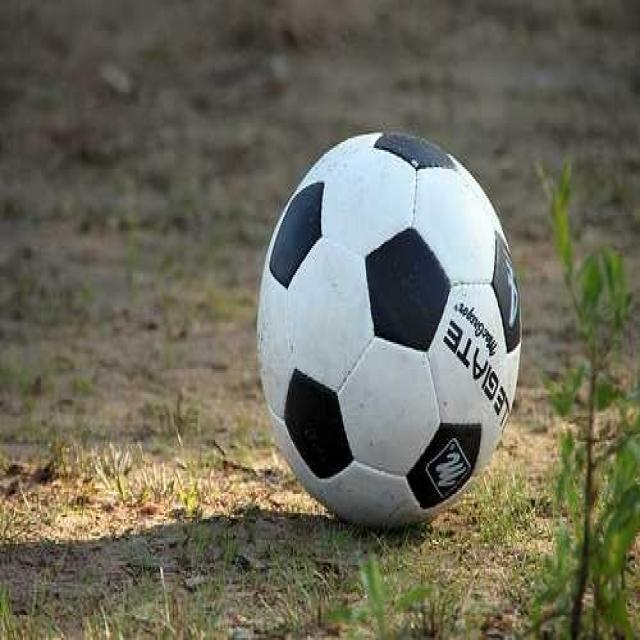ball: (257, 131, 523, 531)
